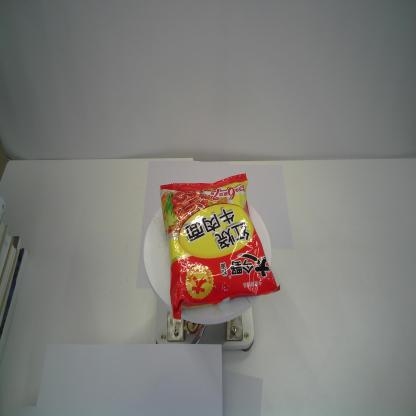Instant Noodles: (159, 172, 281, 320)
